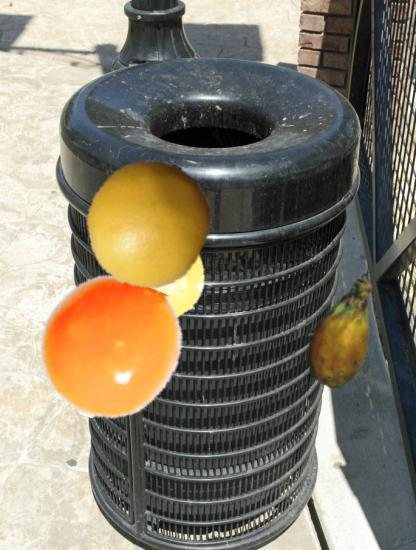Cactus: (287, 275, 403, 391)
Grapefruit: (83, 159, 214, 290)
Physalis: (38, 277, 181, 420)
Quince: (106, 228, 215, 337)
